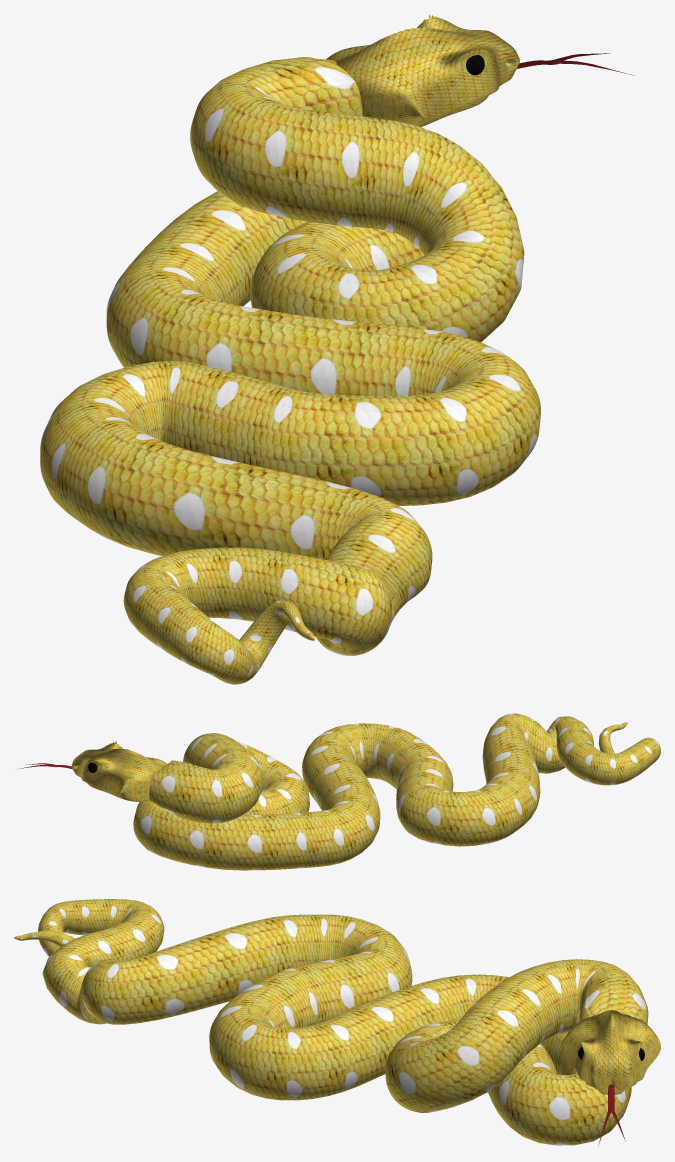
Rendered from snake.glb.
3 renders of one model, top to bottom at view 1: azimuth 30°, elevation 25°; view 2: azimuth 150°, elevation 25°; view 3: azimuth 270°, elevation 25°, orthographic. The views are drawn at different scales.
Parts seen in each view (by area): view 1: Snake; view 2: Snake; view 3: Snake.
Part boxes in pixels (x1=…): Snake: x1=40, y1=14, x2=634, y2=684; Snake: x1=17, y1=713, x2=660, y2=870; Snake: x1=14, y1=899, x2=660, y2=1145.
Size of the model in its own units: 18.08 by 4.44 by 17.73.
Materials: 4 (2 with a texture image).
